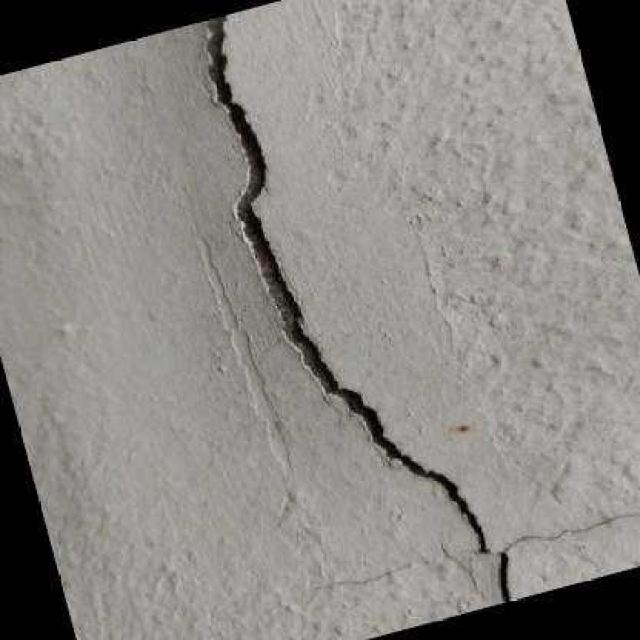D00: (202, 13, 515, 603)
